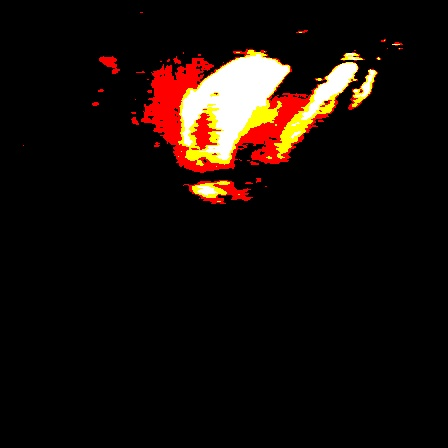coin_1: (66, 262, 86, 282)
coin_2: (19, 171, 39, 191)
coin_3: (354, 253, 374, 273)
coin_4: (399, 191, 419, 211)
